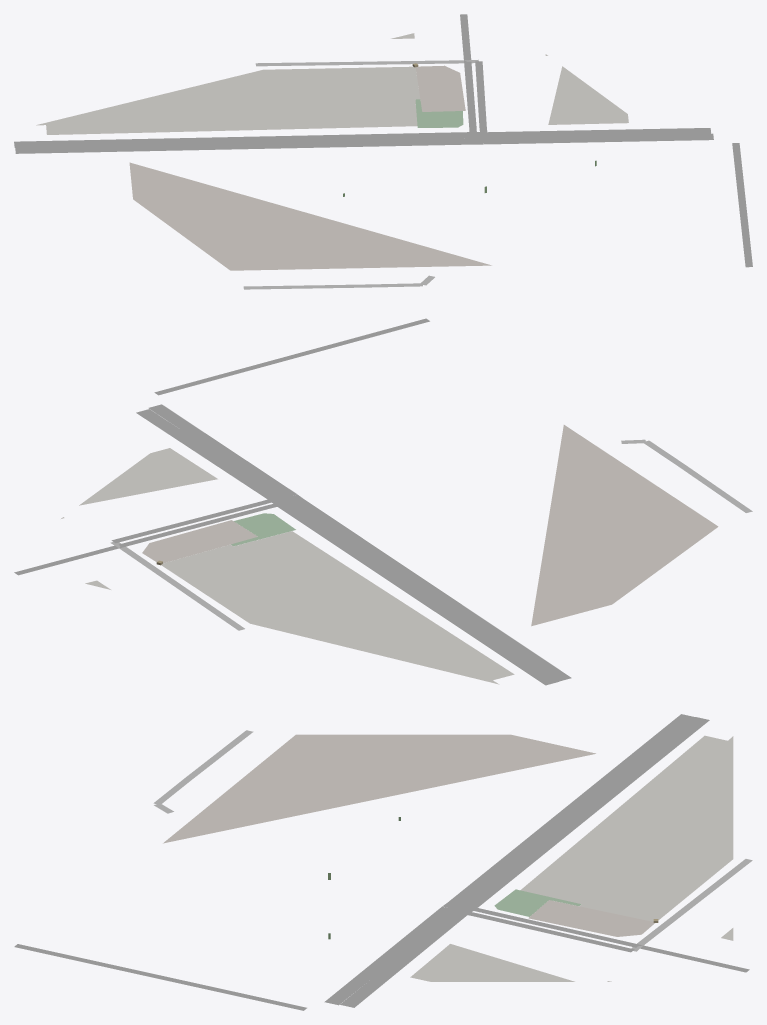
3 renders of one model, top to bottom at view 1: azimuth 30°, elevation 25°; view 2: azimuth 150°, elevation 25°; view 3: azimuth 270°, elevation 25°, orthographic. The views are drawn at different scales.
Size of the model in its own units: 603 by 8.23 by 631.
